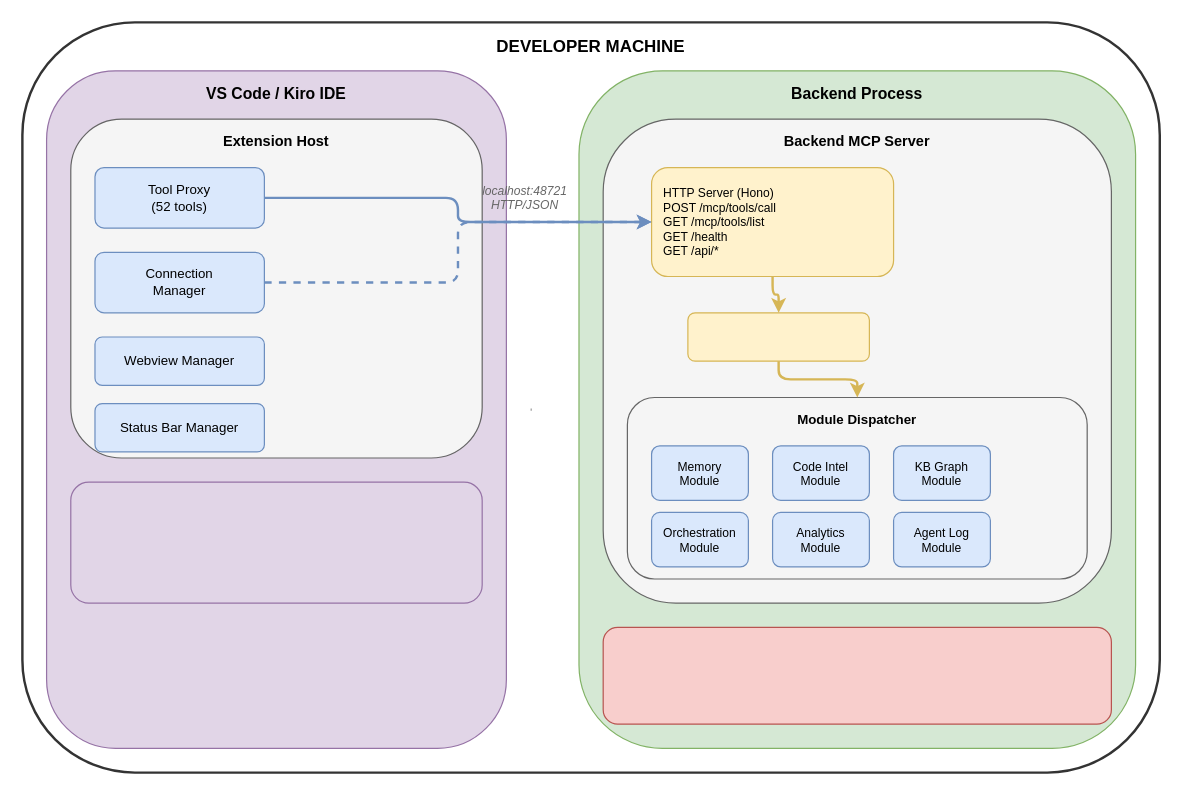
The diagram is 1181 pixels wide and 794 high, and some of its shapes have lost their labels. The shapes that lost their labels are listed below. From the top down, each one's centre as x and y in pixels, then its label:
At point 778,336: "Tool Router".
At point 276,542: "Webview Panels • Dashboard • KB Graph • Analytics • Tags / Quality".
At point 856,675: "Child MCP Servers (stdio) • Atlassian (Jira) • Markdown Exporter • Draw.io".
